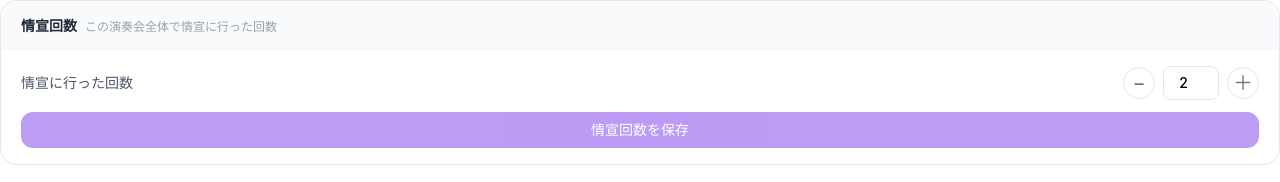
Test: OutreachCountCard（保存操作） › 回数を変更して保存するとticketsApi.updateAllocationが呼ばれる
Click the button named "情宣回数を増やす" at point(1243, 83), box [1227,67,1259,99]
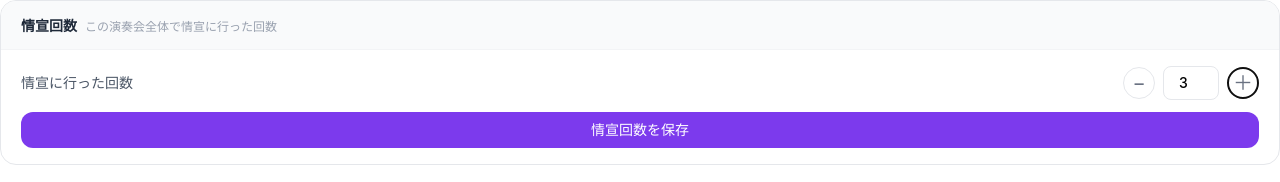
Click the button "情宣回数を保存" at point(640, 130), box [21,112,1259,148]
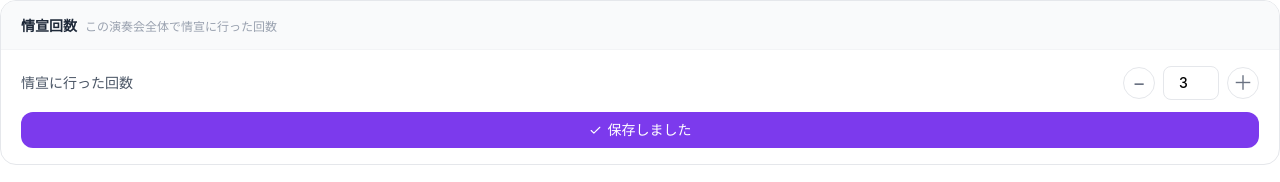
Expected: the button "保存しました" is shown, [21,112,1259,148]
